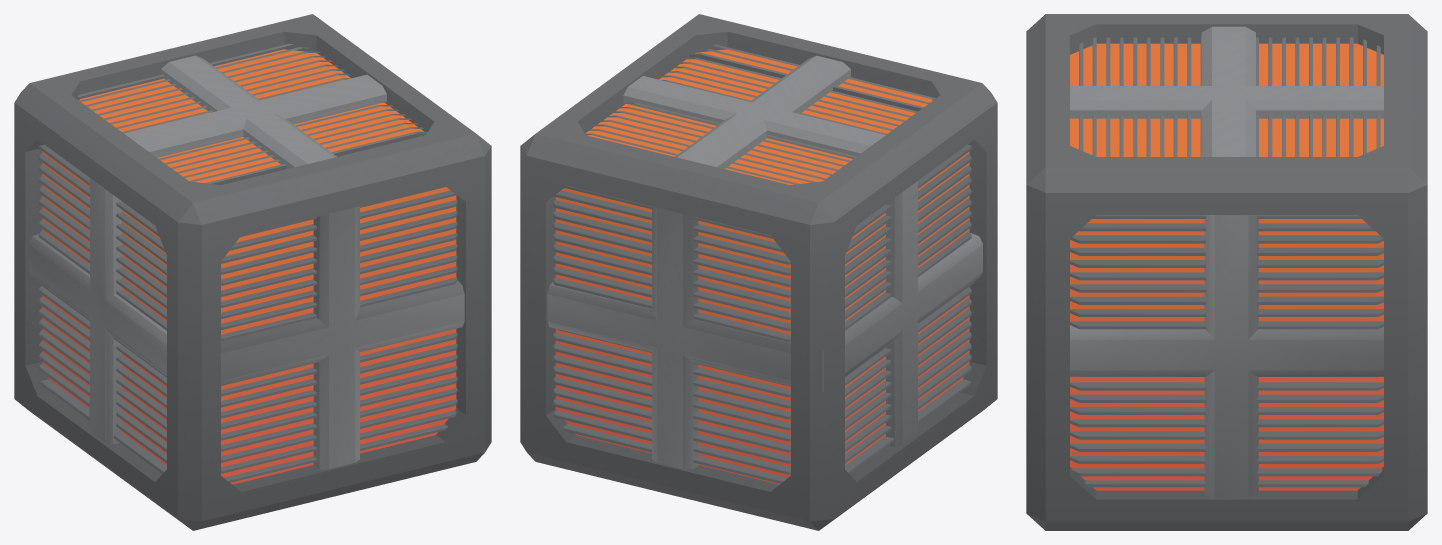
File: mars_base_space_cube.glb
3 renders of one model, left to right at view 1: azimuth 30°, elevation 25°; view 2: azimuth 150°, elevation 25°; view 3: azimuth 270°, elevation 25°, orthographic. The views are drawn at different scales.
Visible parts, largest first — view 1: Cube.012_2; view 2: Cube.012_2; view 3: Cube.012_2.
Part boxes in pixels (<box>): Cube.012_2: <box>14,14,491,530</box>; Cube.012_2: <box>520,14,997,530</box>; Cube.012_2: <box>1026,14,1427,530</box>.
Bounding box in the file's own units: 1.07 × 1.07 × 1.07.
1 material, 1 textured.
